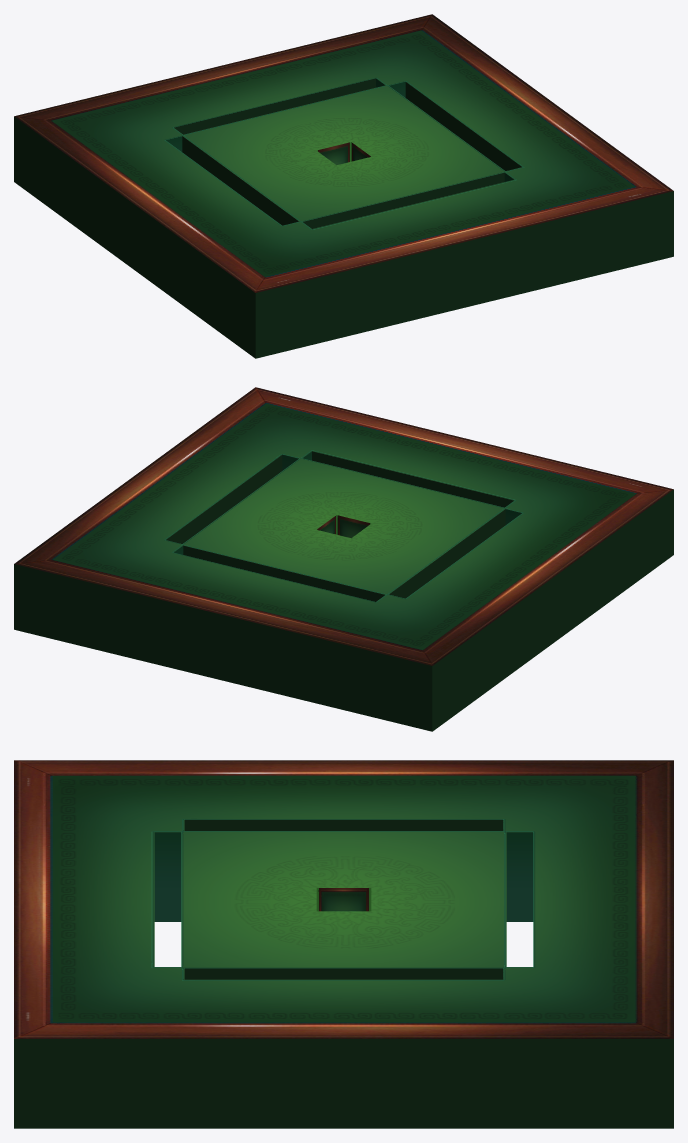
File: zhuozi.FBX
The picture shows the model from 3 angles, top to bottom: view 1: azimuth 30°, elevation 25°; view 2: azimuth 150°, elevation 25°; view 3: azimuth 270°, elevation 25°; orthographic projection. The views are drawn at different scales.
Parts seen in each view (by area): view 1: Box001; view 2: Box001; view 3: Box001.
Boxes of the visible parts, left/top/right/bottom form: Box001: left=14, top=14, right=673, bottom=358; Box001: left=14, top=387, right=673, bottom=731; Box001: left=14, top=760, right=673, bottom=1128.
Bounding box in the file's own units: 47.24 × 7.09 × 47.24.
1 material, 1 textured.
